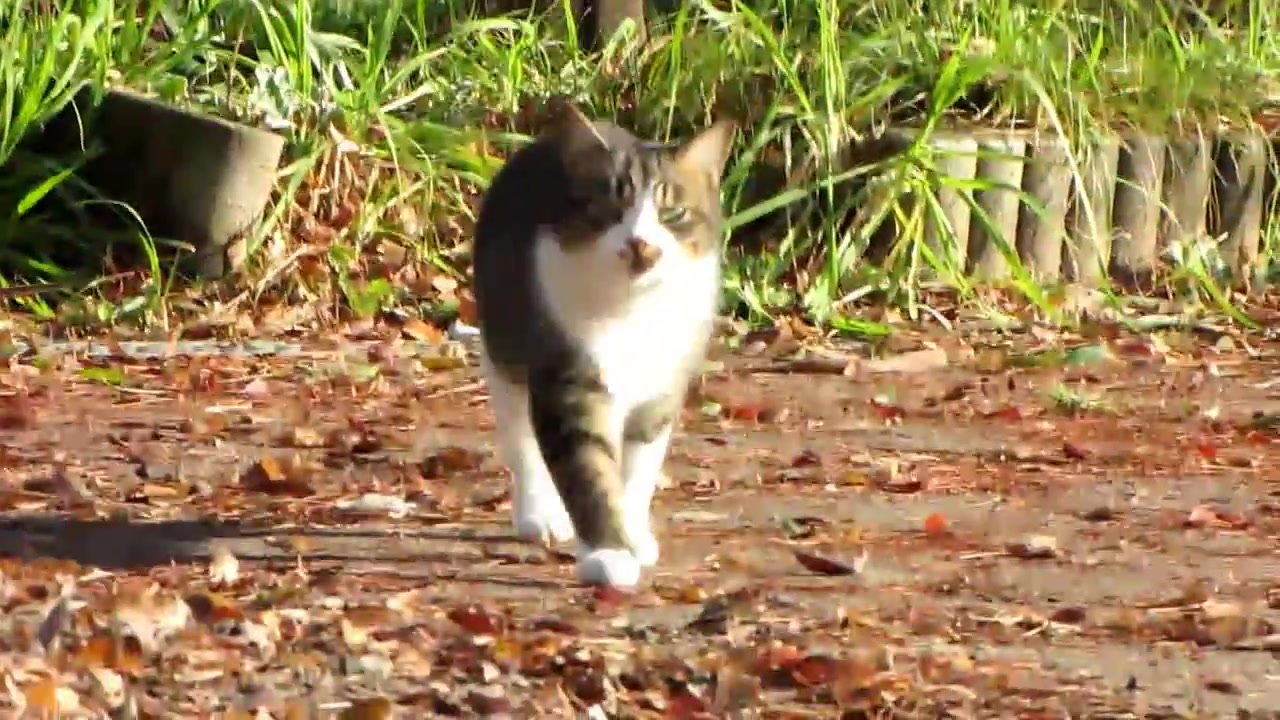cat: (475, 96, 737, 584)
